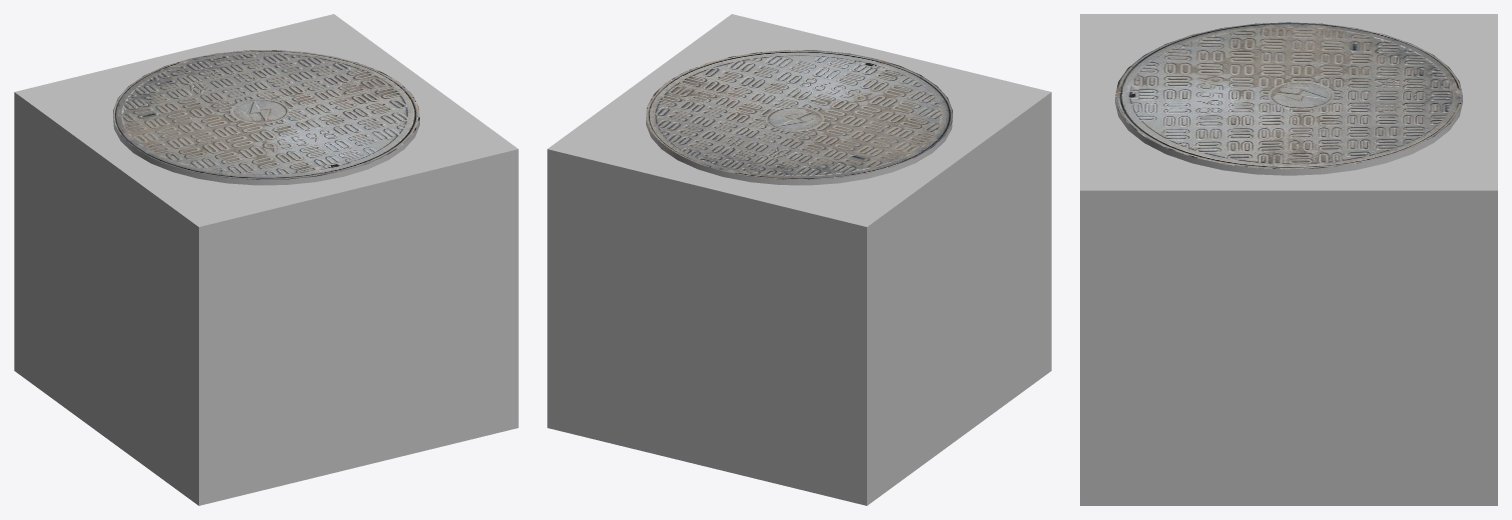
3 renders of one model, left to right at view 1: azimuth 30°, elevation 25°; view 2: azimuth 150°, elevation 25°; view 3: azimuth 270°, elevation 25°, orthographic. The views are drawn at different scales.
Visible parts, largest first — view 1: 518040; view 2: 518040; view 3: 518040.
Part boxes in pixels (x1,y1,x2,y2): 518040: [14, 14, 518, 505]; 518040: [547, 14, 1051, 505]; 518040: [1080, 14, 1497, 505].
Size of the model in its own units: 1.2 by 1.02 by 1.2.
7 materials, 1 textured.
